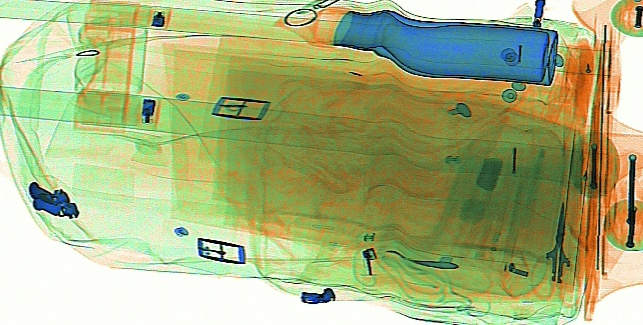scissors: (528, 197, 583, 310)
